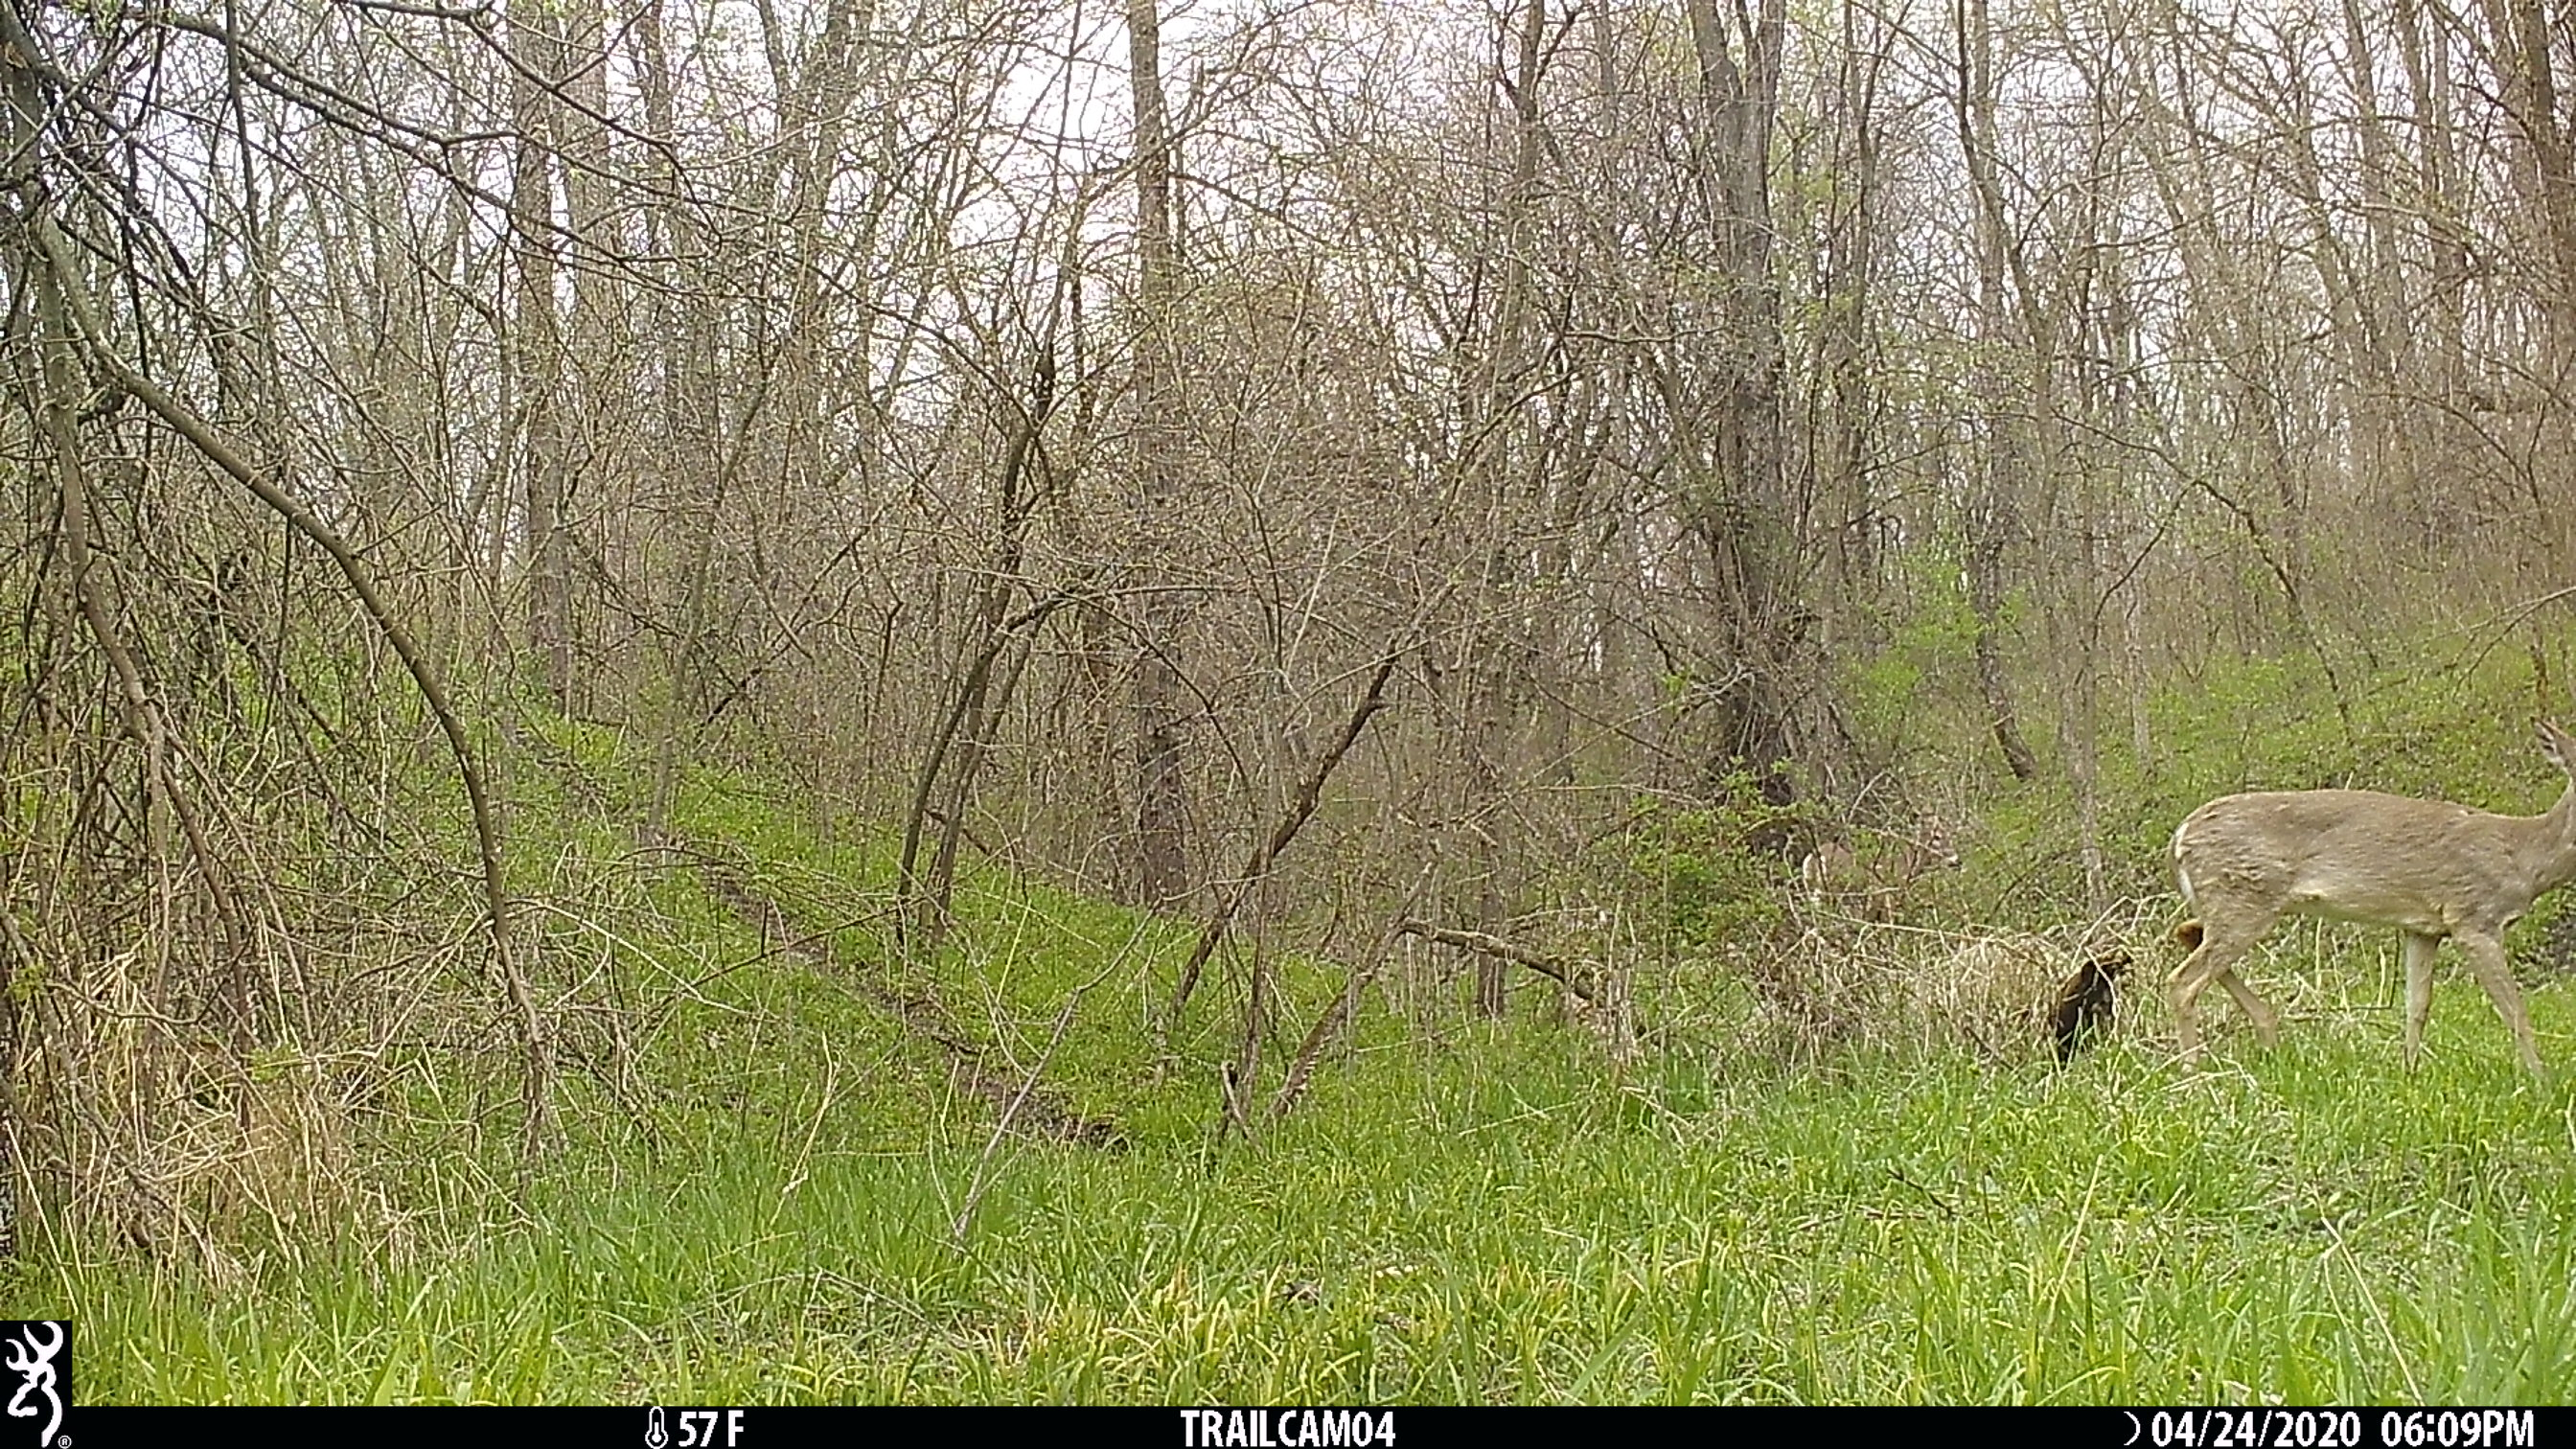Deer: (2167, 773, 2576, 1074)
